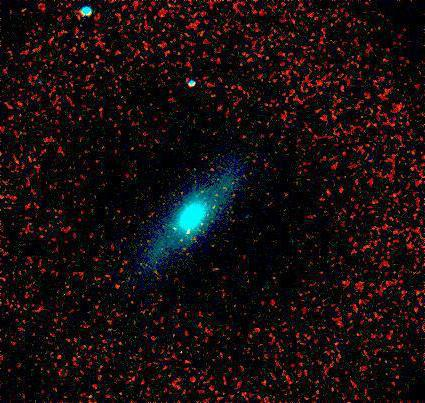star: (158, 212, 188, 242)
